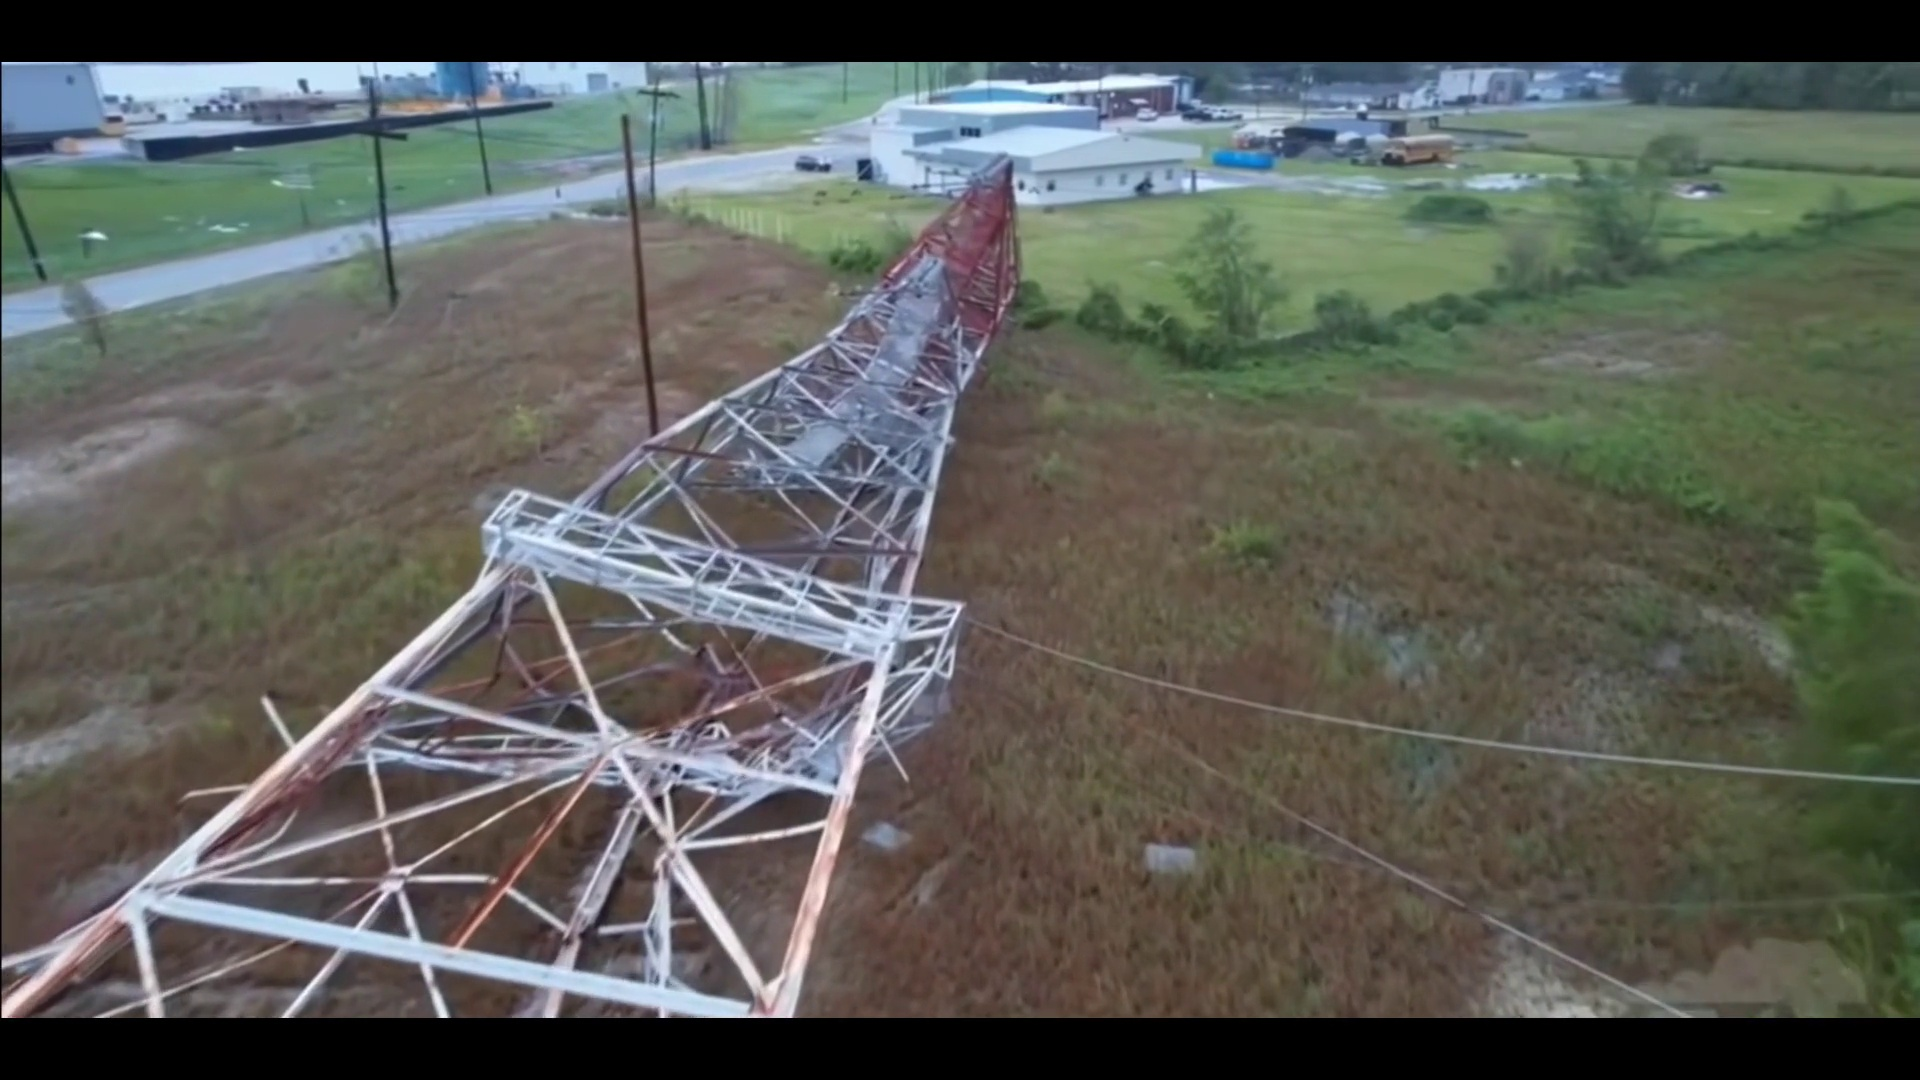tower_down: (1, 135, 1063, 1027)
